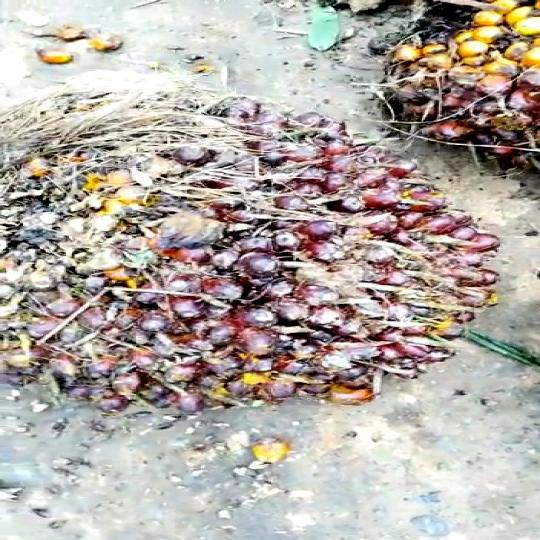kurang masak: (9, 85, 523, 418)
